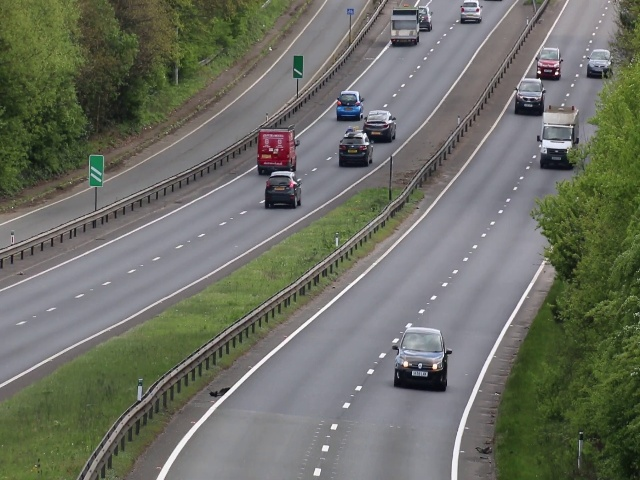car: (394, 326, 450, 395), (535, 107, 584, 168), (255, 126, 298, 175), (264, 171, 303, 212), (337, 129, 374, 168), (361, 110, 396, 144), (391, 7, 420, 48), (513, 78, 544, 115), (535, 46, 563, 81), (586, 45, 612, 79), (336, 90, 362, 122), (459, 1, 483, 25), (417, 3, 433, 30)
